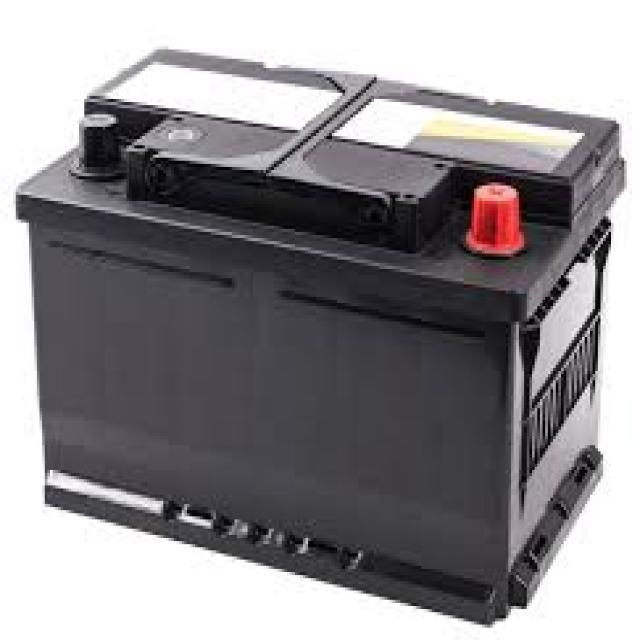Battery: (19, 37, 626, 630)
